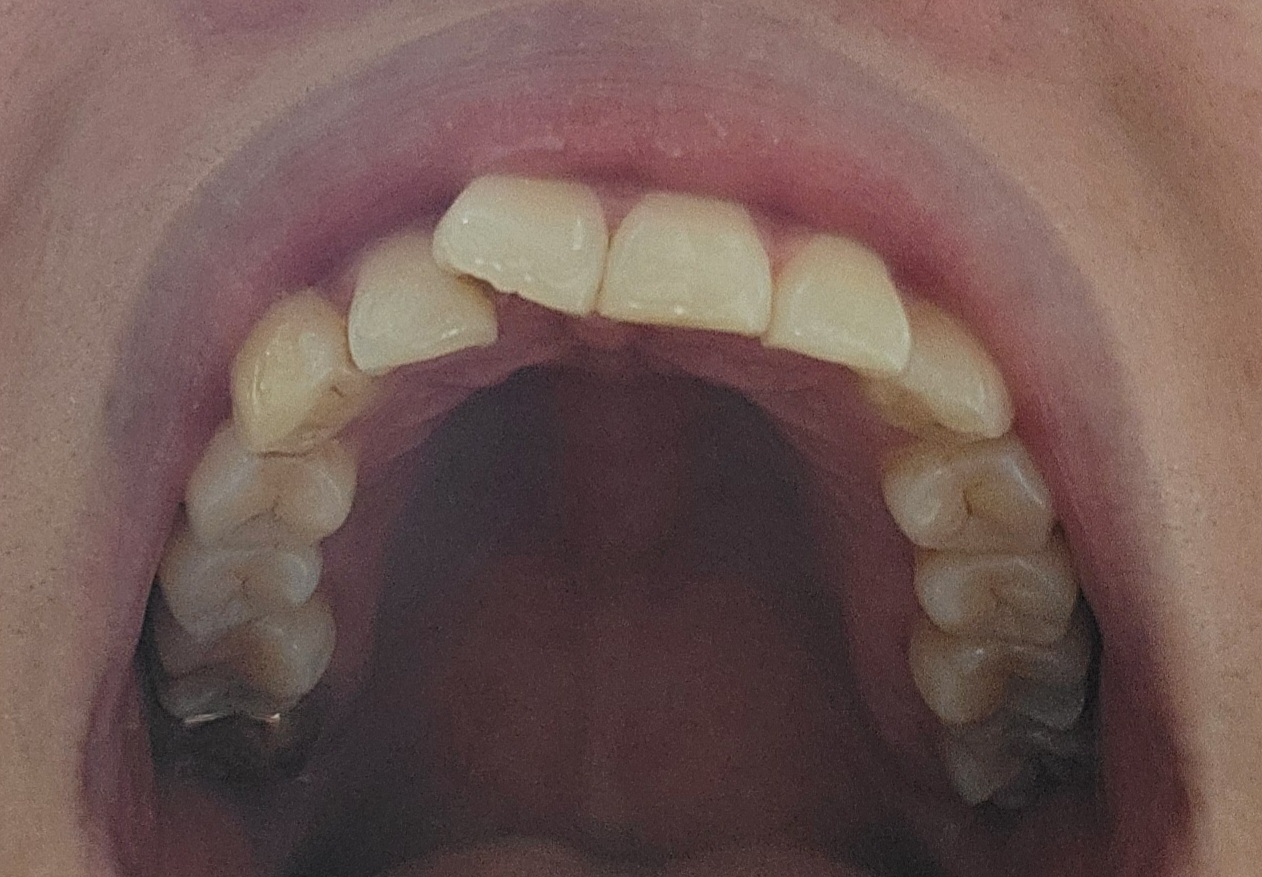teeth: (434, 180, 603, 318), (599, 196, 766, 333), (235, 291, 372, 451), (349, 236, 495, 375), (182, 438, 360, 548), (163, 608, 332, 719), (892, 447, 1050, 560), (777, 236, 903, 370), (872, 323, 1005, 442), (159, 533, 315, 633), (926, 644, 1081, 726), (918, 564, 1067, 643)
